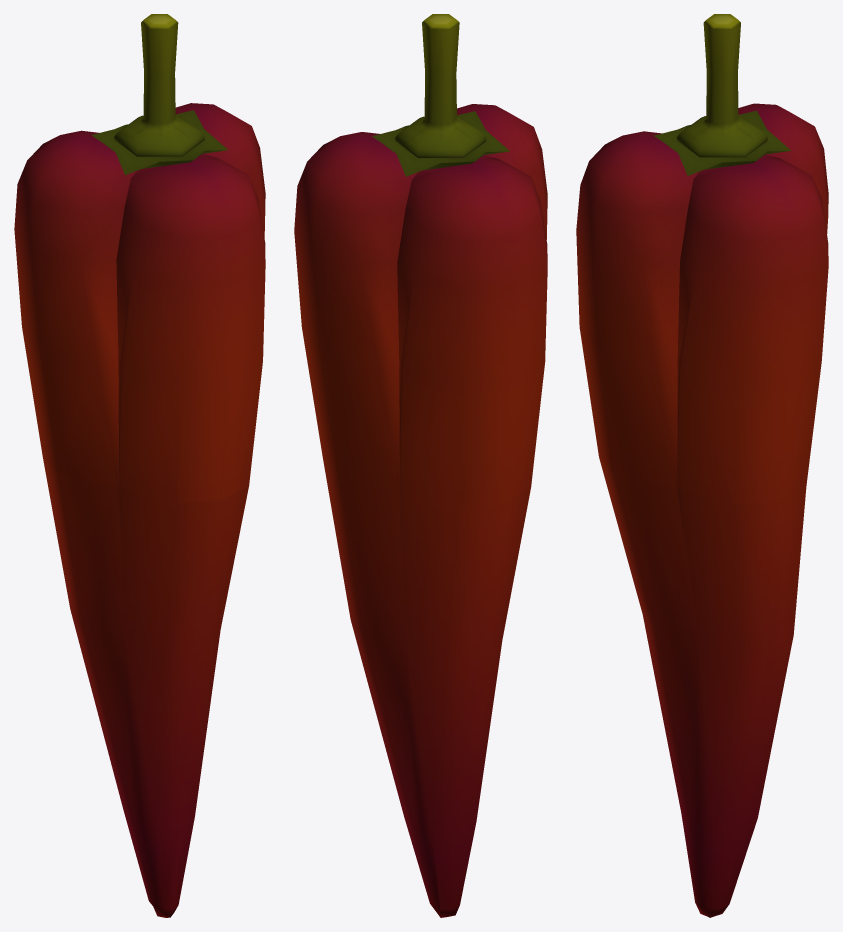
File: Pepper Pointed.fbx
The picture shows the model from 3 angles, left to right: view 1: azimuth 30°, elevation 25°; view 2: azimuth 150°, elevation 25°; view 3: azimuth 270°, elevation 25°; orthographic projection.
Parts seen in each view (by area): view 1: Pepper_Pointed_Whole, Pepper_Pointed_Half_Top, Pepper_Pointed_Half_Bottom; view 2: Pepper_Pointed_Whole, Pepper_Pointed_Half_Top; view 3: Pepper_Pointed_Whole, Pepper_Pointed_Half_Top, Pepper_Pointed_Half_Bottom.
Part boxes in pixels (x1,y1,x2,y2): Pepper_Pointed_Whole: [14, 14, 265, 917]; Pepper_Pointed_Half_Top: [27, 347, 262, 503]; Pepper_Pointed_Half_Bottom: [59, 475, 225, 629]; Pepper_Pointed_Whole: [294, 14, 547, 917]; Pepper_Pointed_Half_Top: [302, 328, 544, 504]; Pepper_Pointed_Whole: [576, 14, 828, 917]; Pepper_Pointed_Half_Top: [580, 328, 821, 503]; Pepper_Pointed_Half_Bottom: [626, 479, 738, 646].
Bounding box in the file's own units: 1.64 × 6.03 × 1.54.
